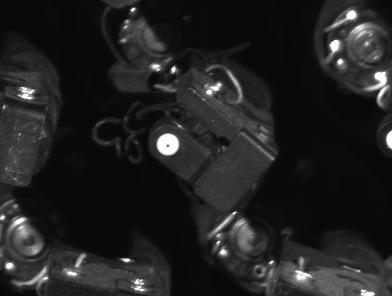fiber: (154, 130, 184, 158)
